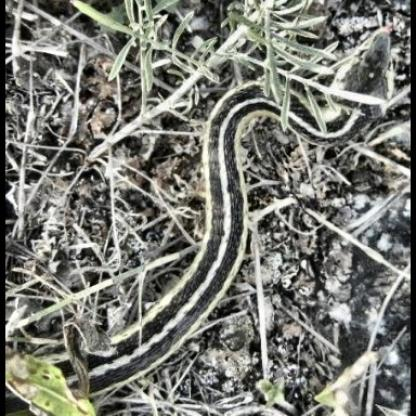Snake: (63, 28, 393, 394)
